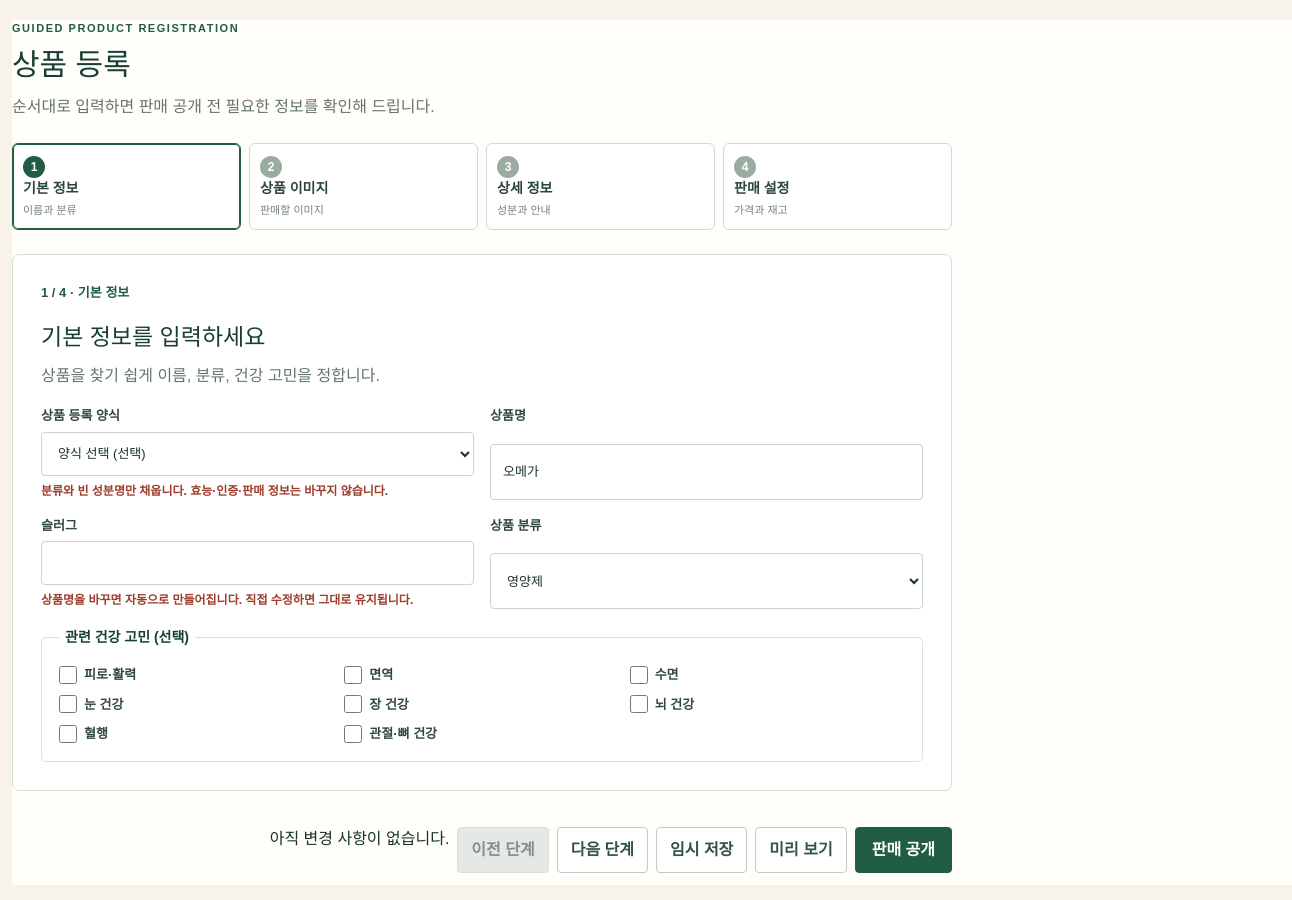
Test: prevents a second save while the first save is pending
Click the button "임시 저장".
click(702, 850)  # box [656,827,747,873]
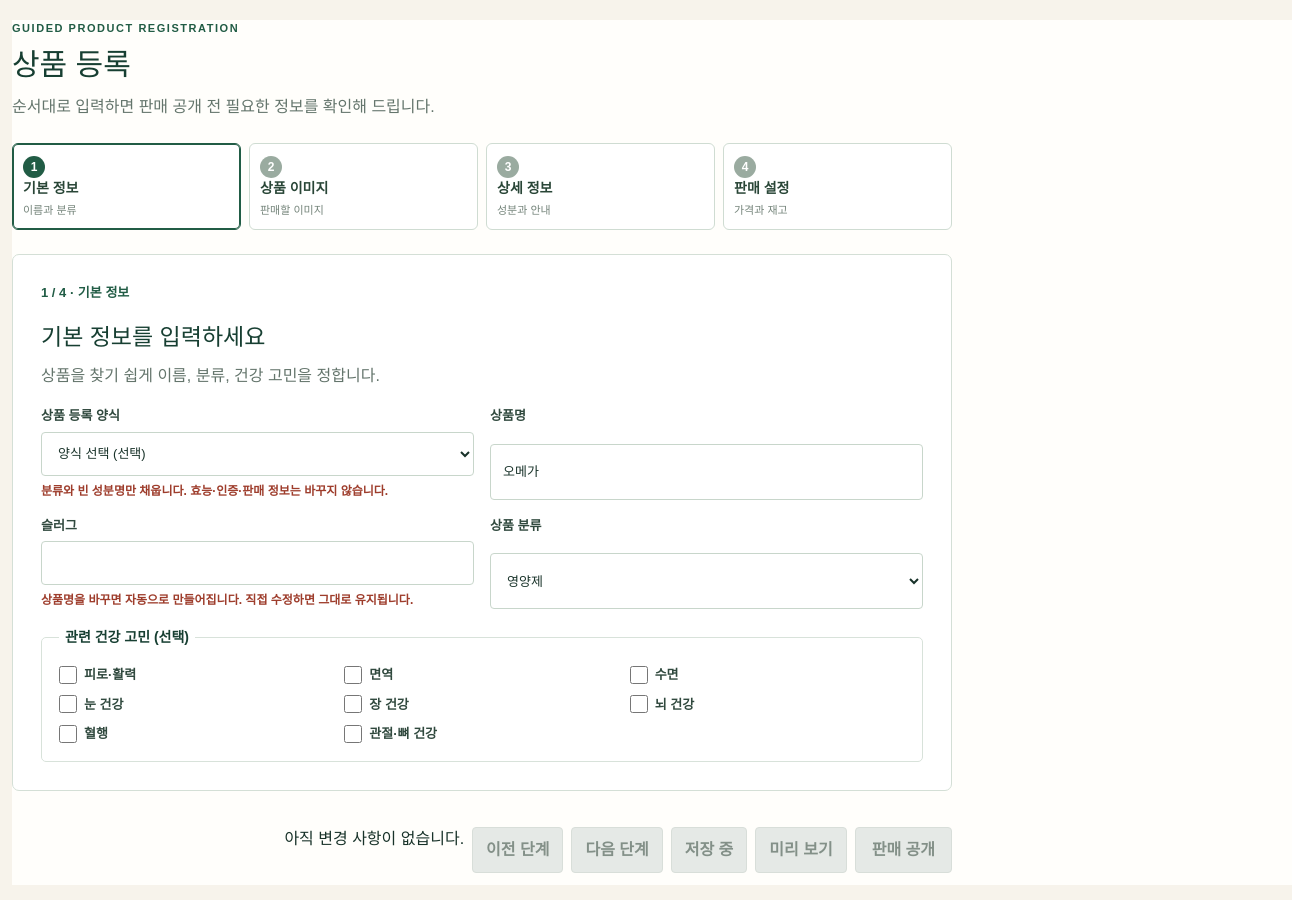
Click the button "저장 중".
click(709, 850)  # box [671,827,747,873]
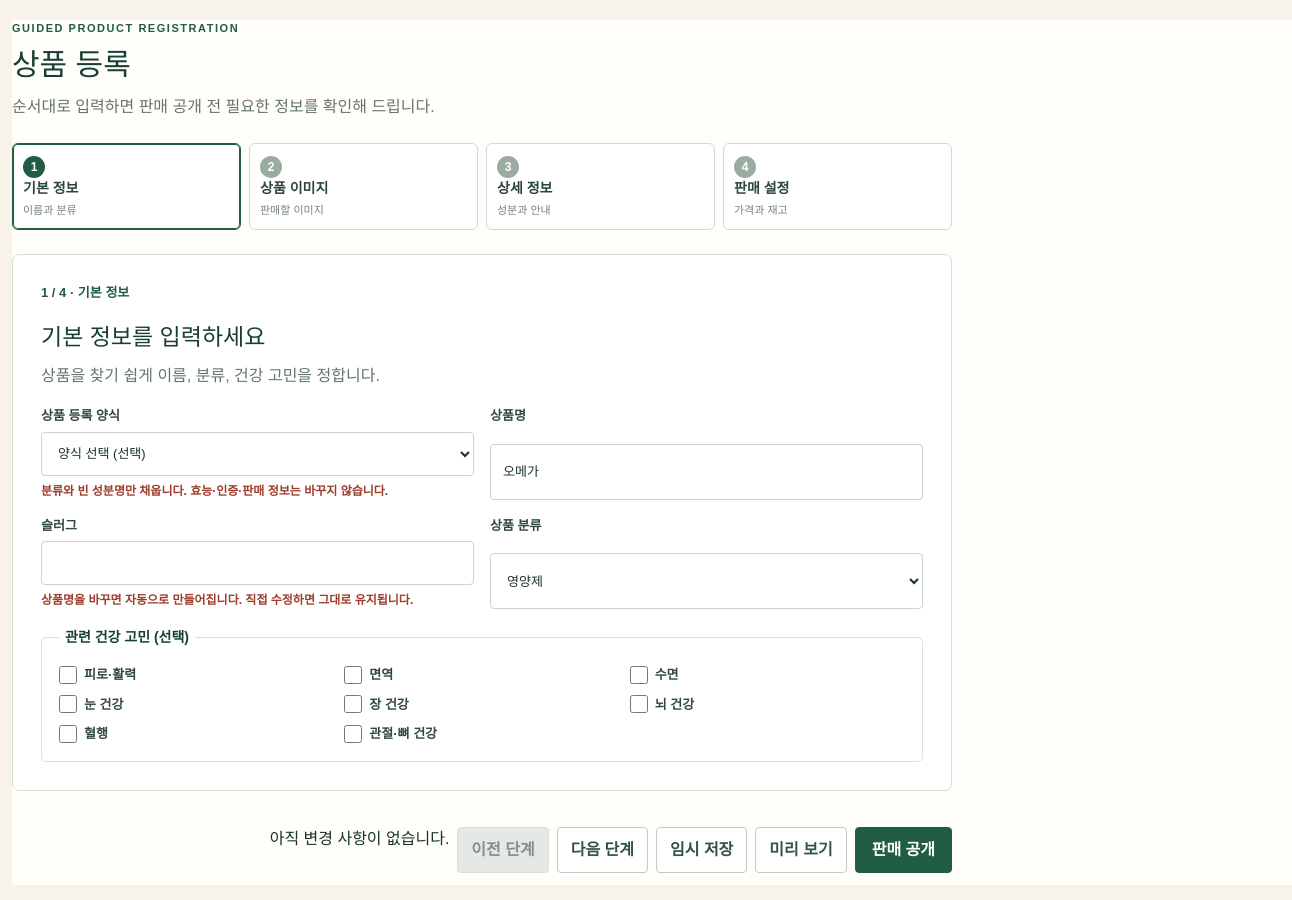
Now the button "임시 저장" is enabled, box [656,827,747,873]
